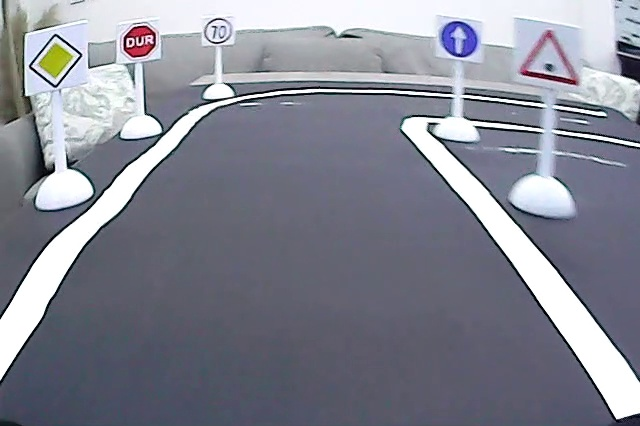green light: (518, 26, 583, 90)
speed limit 70: (203, 18, 235, 47)
stop sign: (118, 22, 160, 62)
